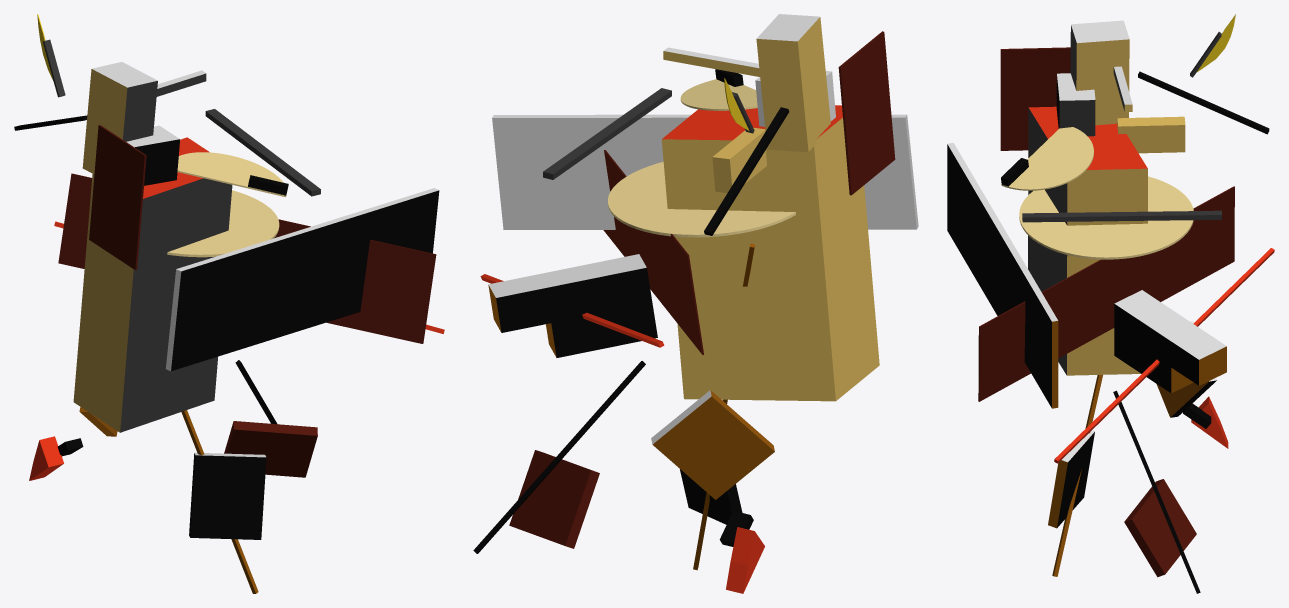
The model's file is kartiny_maslom3.fbx.
The picture shows the model from 3 angles, left to right: view 1: azimuth 30°, elevation 25°; view 2: azimuth 150°, elevation 25°; view 3: azimuth 270°, elevation 25°; orthographic projection. The views are drawn at different scales.
Parts seen in each view (by area): view 1: Cube.021, Cube.023, Cube.022, Cube.030, Cube.036, Cube.016, Cube.032, Cylinder, Cylinder.001, Cube.017, Cube.019, Cube.034 (+3 smaller); view 2: Cube.021, Cube.023, Cube.026, Cube.016, Cube.028, Cube.036, Cylinder, Cube.032, Cube.022, Cube.019, Cube.018, Cube.034 (+10 smaller); view 3: Cube.022, Cube.021, Cube.023, Cube.026, Cylinder, Cube.036, Cube.016, Cube.032, Cylinder.001, Cube.030, Cube.018, Cube.019 (+9 smaller).
Boxes of the visible parts, <box> form: Cube.021: <box>73,137,232,432</box>; Cube.023: <box>165,188,439,371</box>; Cube.022: <box>58,173,436,343</box>; Cube.030: <box>189,452,266,539</box>; Cube.036: <box>89,125,146,270</box>; Cube.016: <box>82,62,157,174</box>; Cube.032: <box>224,421,317,477</box>; Cylinder: <box>167,190,279,257</box>; Cylinder.001: <box>177,152,286,197</box>; Cube.017: <box>126,125,179,185</box>; Cube.019: <box>205,109,320,196</box>; Cube.034: <box>29,436,63,480</box>; Cube.021: <box>661,105,879,401</box>; Cube.023: <box>492,114,918,229</box>; Cube.026: <box>488,254,657,357</box>; Cube.016: <box>756,14,830,152</box>; Cube.028: <box>651,390,774,499</box>; Cube.036: <box>838,31,895,195</box>; Cylinder: <box>608,161,795,237</box>; Cube.032: <box>509,450,599,548</box>; Cube.022: <box>603,150,703,354</box>; Cube.019: <box>543,88,671,179</box>; Cube.018: <box>712,127,766,192</box>; Cube.034: <box>726,527,764,593</box>; Cube.022: <box>978,186,1234,401</box>; Cube.021: <box>1028,106,1147,375</box>; Cube.023: <box>947,142,1058,408</box>; Cube.026: <box>1114,290,1226,393</box>; Cylinder: <box>1019,176,1193,259</box>; Cube.036: <box>1000,47,1070,150</box>; Cube.016: <box>1070,20,1129,125</box>; Cube.032: <box>1124,479,1196,577</box>; Cylinder.001: <box>1001,127,1093,190</box>; Cube.030: <box>1048,430,1094,528</box>; Cube.018: <box>1117,116,1185,153</box>; Cube.019: <box>1022,210,1221,222</box>.
Bounding box in the file's own units: 658 × 984 × 576.
